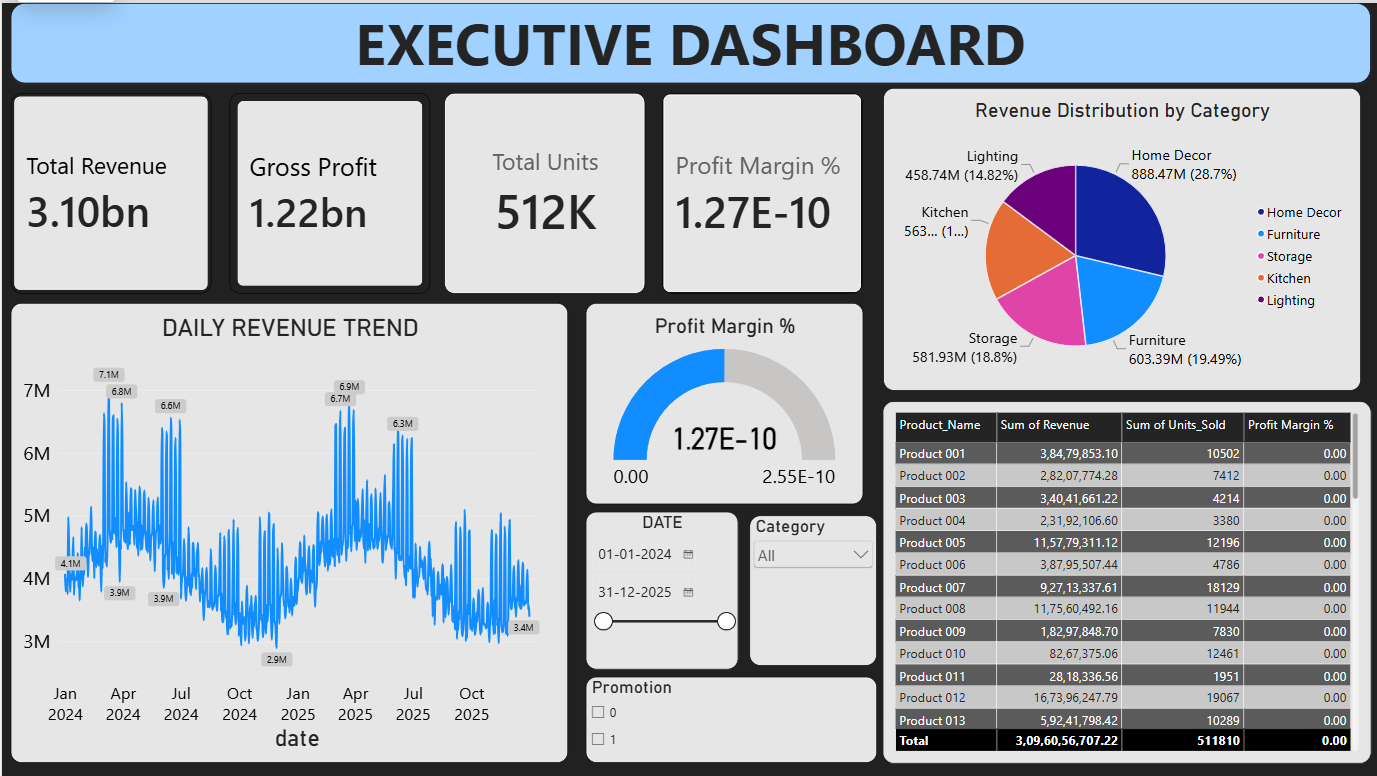

This screenshot's page, from the dashboard's own definition file:
{"tool":"powerbi","page":{"name":"Page 1","canvas":[1920,1080],"ordinal":0},"visuals":[{"type":"cardVisual","fields":{"Data":["_Measures.Gross Profit"]},"box":[293,118.6,324.4,300],"z":1},{"type":"cardVisual","fields":{"Data":["_Measures.Total Revenue"]},"box":[12.2,125.6,280,280],"z":2},{"type":"cardVisual","fields":{"Data":["_Measures.Profit Margin %"]},"box":[920.9,125.6,300,280.8],"z":3},{"type":"cardVisual","fields":{"Data":["_Measures.Total Units"]},"box":[617.4,125.6,291.3,280.8],"z":4},{"type":"lineChart","title":"DAILY REVENUE TREND","fields":{"Category":["calendar (2).date"],"Y":["_Measures.Total Revenue"]},"box":[12.2,418.6,777.9,641.9],"z":5},{"type":"pieChart","title":"Revenue Distribution by Category","fields":{"Category":["sku_master (2).Category"],"Y":["_Measures.Total Revenue"]},"box":[1229.7,118.6,680.2,422.1],"z":6},{"type":"tableEx","fields":{"Values":["sku_master (2).Product_Name","Sum(sales_daily (2).Revenue)","Sum(sales_daily (2).Units_Sold)","_Measures.Profit Margin %"]},"box":[1229.7,556.4,680.2,504.1],"z":7},{"type":"gauge","fields":{"Y":["_Measures.Profit Margin %"]},"box":[814.5,418.6,406.4,280.8],"z":8},{"type":"slicer","title":"DATE","fields":{"Values":["calendar (2).date"]},"box":[814.5,709.9,212.8,219.8],"z":9},{"type":"slicer","fields":{"Values":["sku_master (2).Category"]},"box":[1043,715.1,177.9,209.3],"z":10},{"type":"slicer","fields":{"Values":["sales_daily (2).Promotion"]},"box":[814.5,940.1,406.4,120.3],"z":11},{"type":"textbox","box":[12.2,0,1897.7,111.6],"z":12}]}

Visuals, with their boxes in screenshot pixels (x1, y1, x2, y2), scaled from the page's 1920x1080 canvas onto the 1377x776 screenshot:
cardVisual - _Measures.Gross Profit: locate(210, 85, 443, 301)
cardVisual - _Measures.Total Revenue: locate(9, 90, 210, 291)
cardVisual - _Measures.Profit Margin %: locate(660, 90, 876, 292)
cardVisual - _Measures.Total Units: locate(443, 90, 652, 292)
"DAILY REVENUE TREND" lineChart: locate(9, 301, 567, 762)
"Revenue Distribution by Category" pieChart: locate(882, 85, 1370, 389)
tableEx - sku_master (2).Product_Name x Sum(sales_daily (2).Revenue): locate(882, 400, 1370, 762)
gauge - _Measures.Profit Margin %: locate(584, 301, 876, 503)
"DATE" slicer: locate(584, 510, 737, 668)
slicer - sku_master (2).Category: locate(748, 514, 876, 664)
slicer - sales_daily (2).Promotion: locate(584, 675, 876, 762)
textbox: locate(9, 0, 1370, 80)
